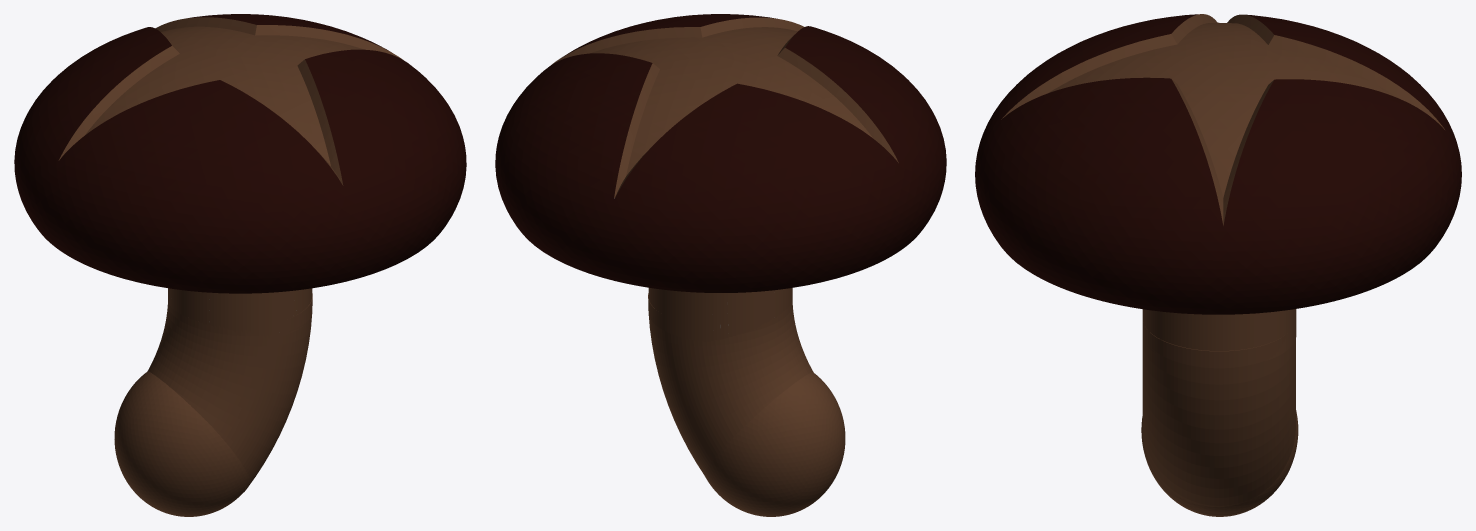
Rendered from mash.fbx.
3 views of the same model, side by side, from view 1: azimuth 30°, elevation 25°; view 2: azimuth 150°, elevation 25°; view 3: azimuth 270°, elevation 25° (orthographic). The views are drawn at different scales.
Visible parts, largest first — view 1: node_id8; view 2: node_id8; view 3: node_id8.
Boxes of the visible parts, left/top/right/bottom form: node_id8: left=14, top=14, right=466, bottom=516; node_id8: left=495, top=14, right=946, bottom=516; node_id8: left=975, top=14, right=1461, bottom=516.
Size of the model in its own units: 0.4711 by 0.512 by 0.4711.
